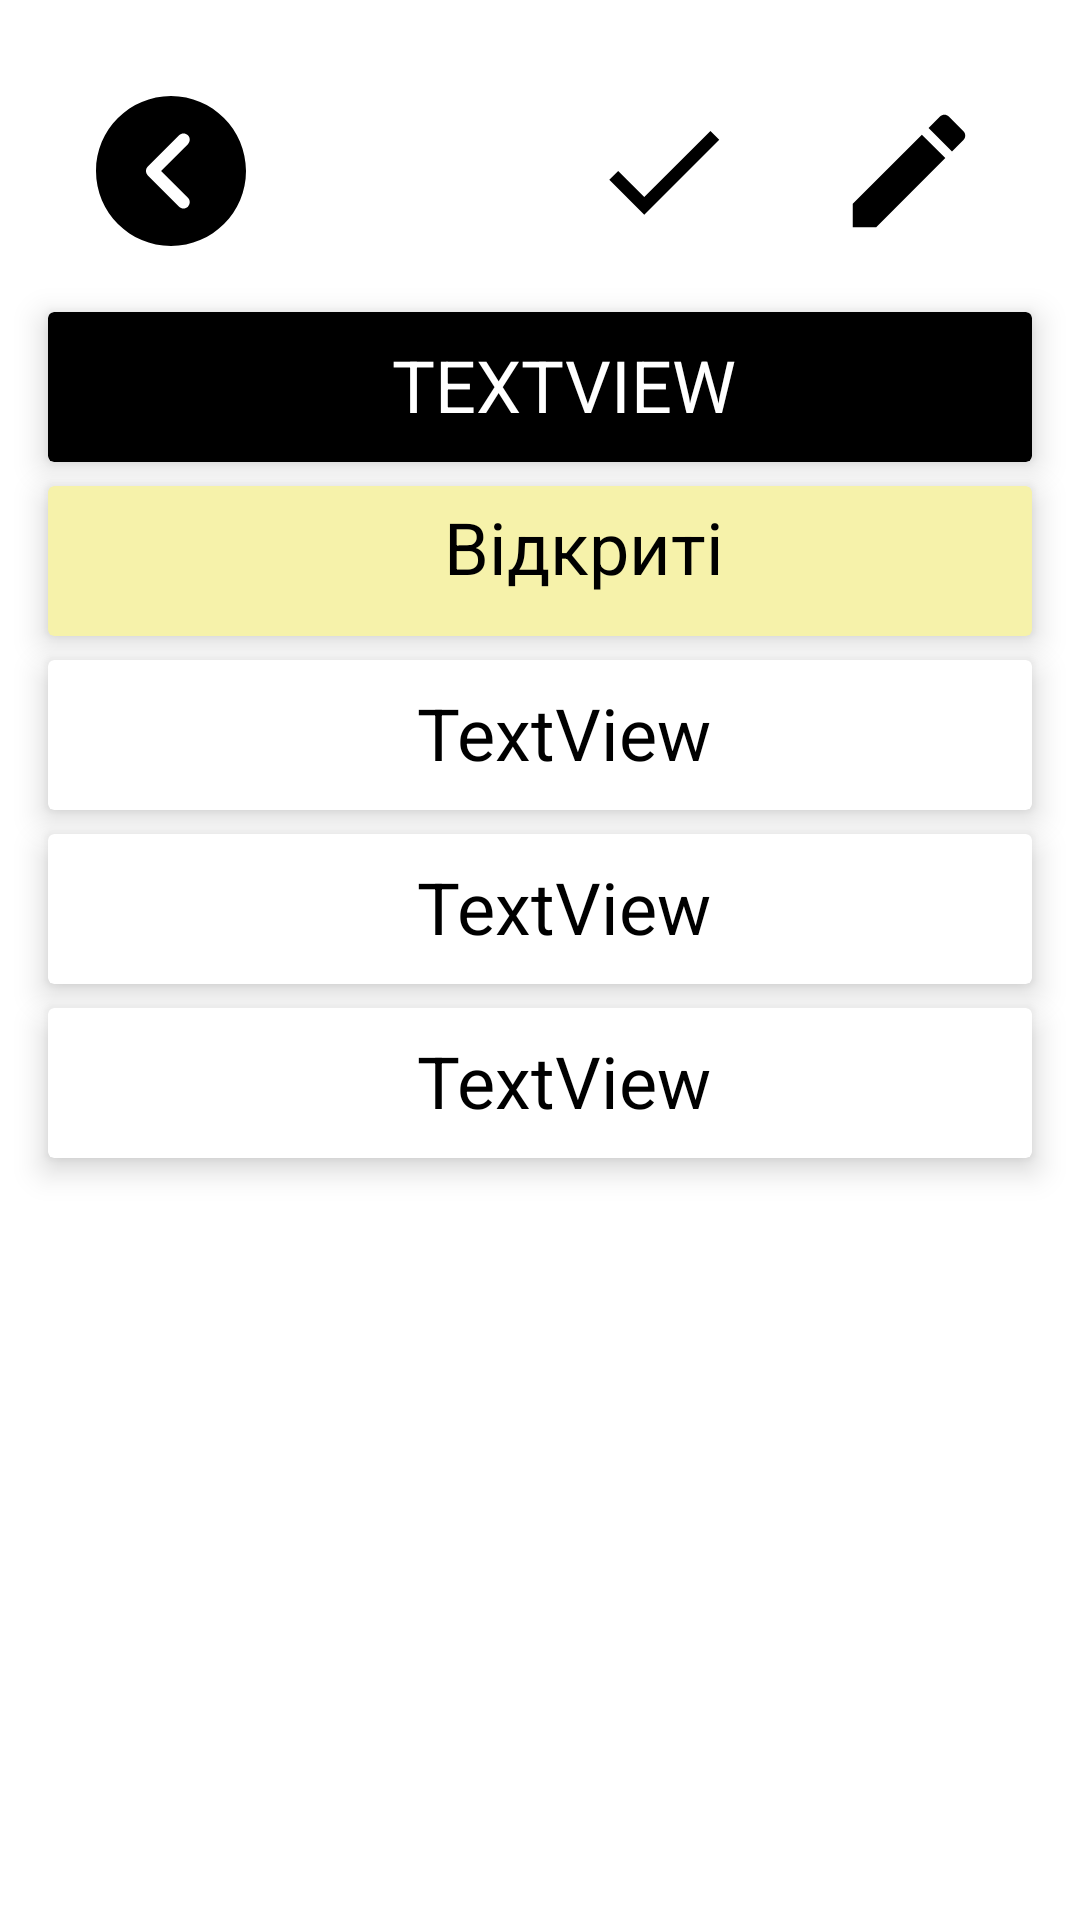

Where icons sit on this 1080 × 1920 app screen, as bbox(x1, y1, x2, y2):
check: bbox(609, 131, 719, 215)
edit card: bbox(852, 114, 966, 228)
left arrow: bbox(96, 96, 246, 246)
